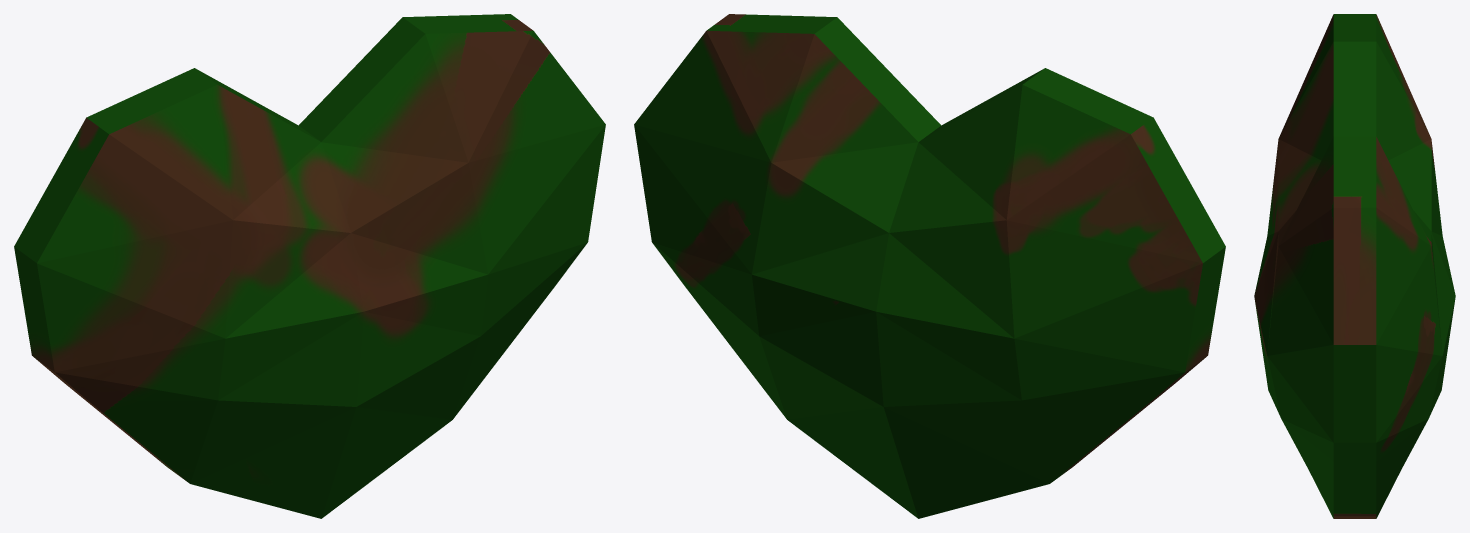
Rendered from heart.dae.
3 views of the same model, side by side, from view 1: azimuth 30°, elevation 25°; view 2: azimuth 150°, elevation 25°; view 3: azimuth 270°, elevation 25° (orthographic). The views are drawn at different scales.
Parts seen in each view (by area): view 1: Cube; view 2: Cube; view 3: Cube.
Part boxes in pixels (x1,y1,x2,y2): Cube: [14, 14, 605, 518]; Cube: [634, 14, 1225, 518]; Cube: [1254, 14, 1455, 518].
Size of the model in its own units: 4.34 by 1.42 by 3.35.
